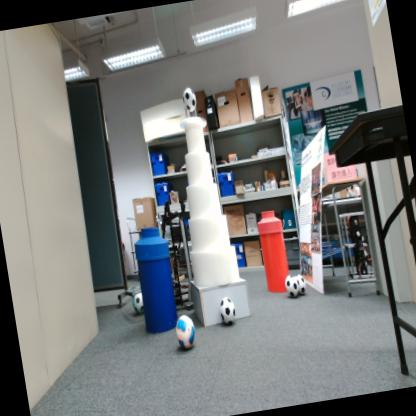ball: (174, 312, 197, 350), (218, 295, 237, 326), (180, 86, 196, 112), (284, 274, 298, 298), (294, 273, 308, 296), (132, 292, 144, 316)
